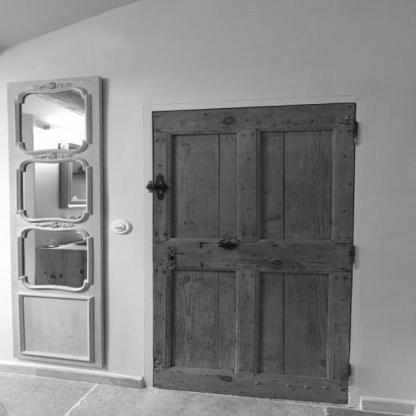door: (132, 96, 365, 355)
